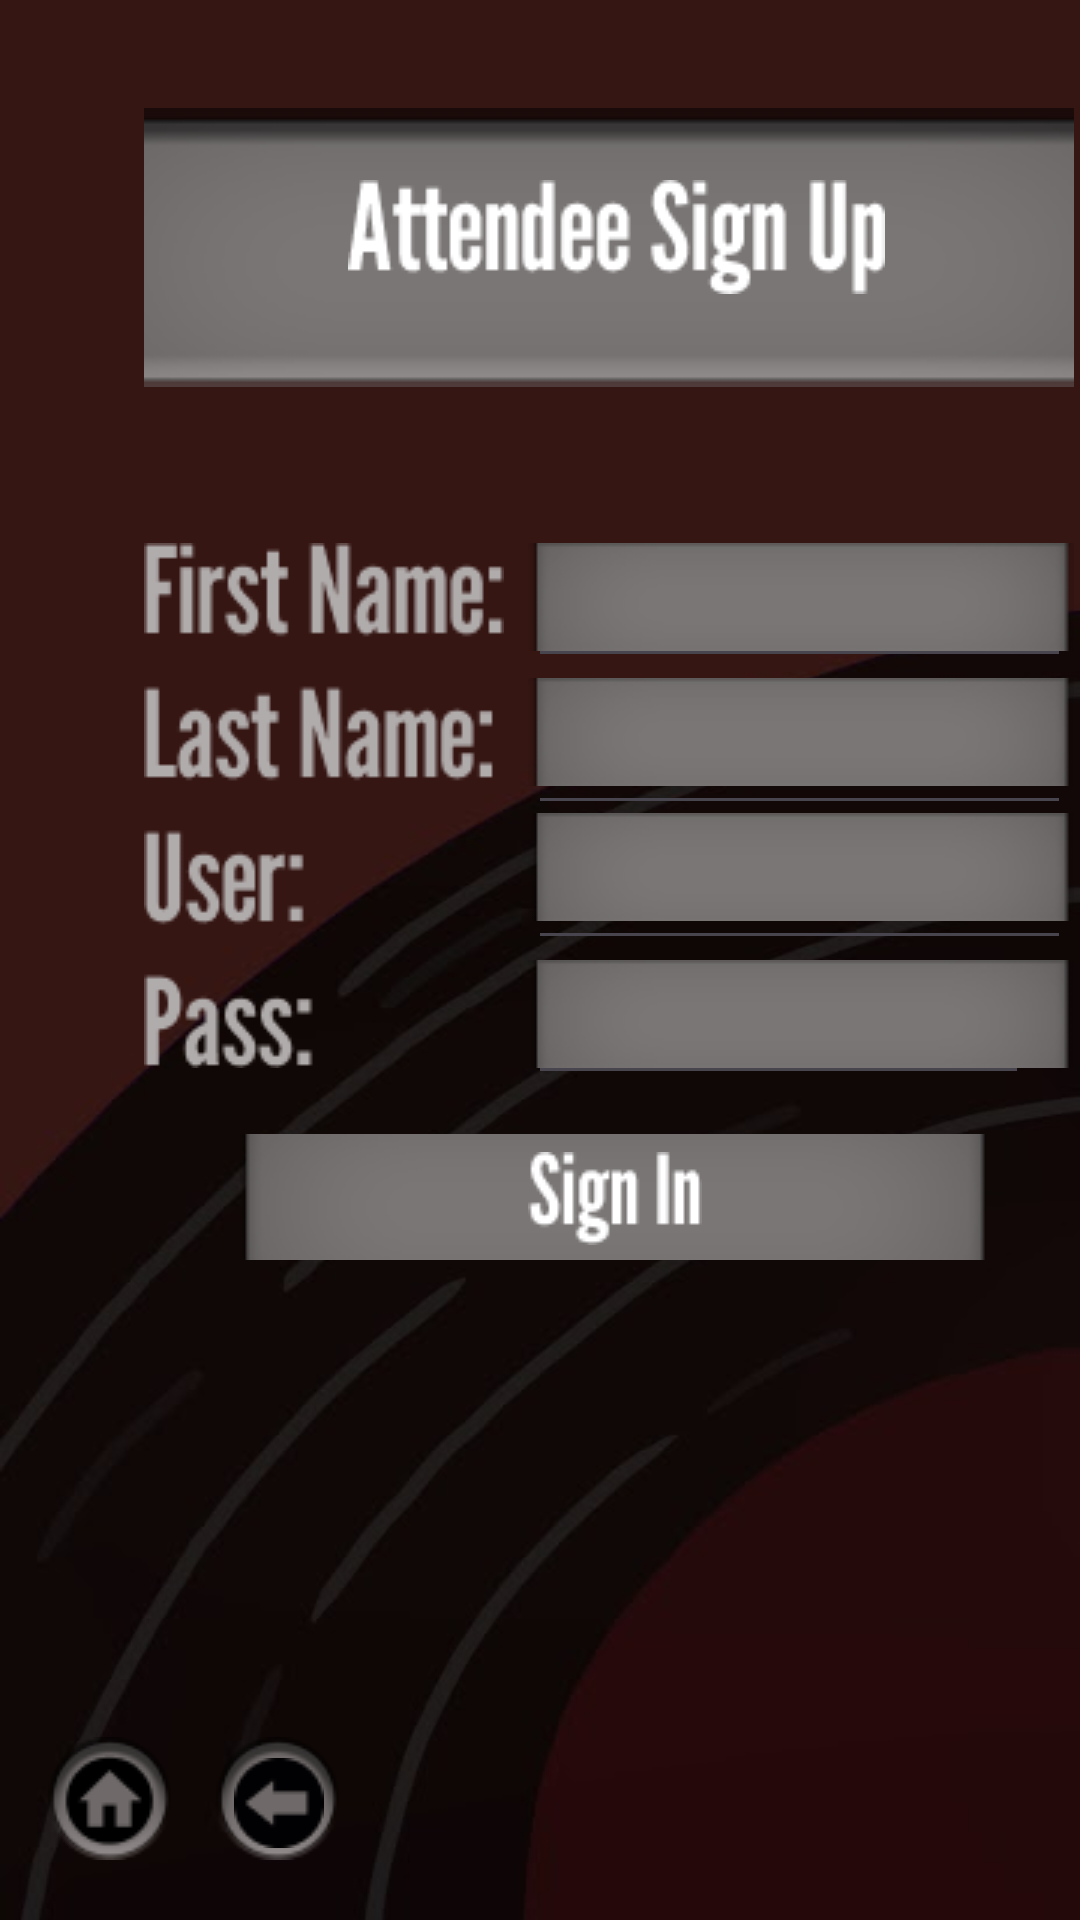

Point at icon controls on the screen. Image size 1080x1920, points as point (x, y).
back arrow: point (279, 1803)
home circle: point (109, 1801)
